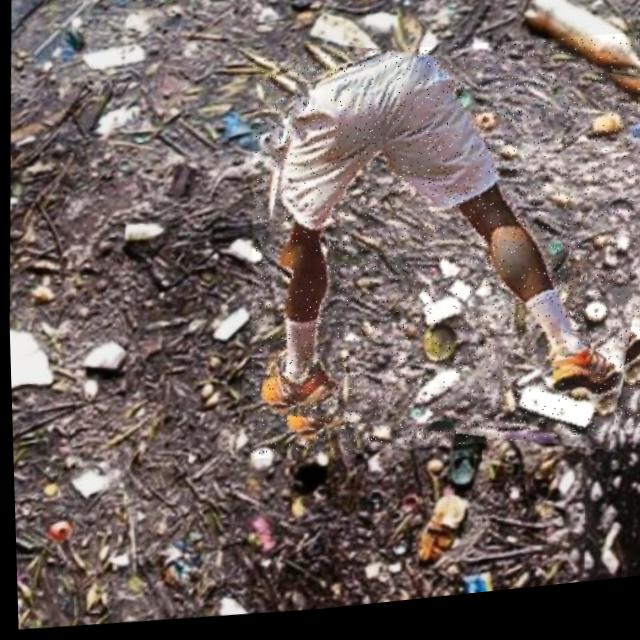Person in Rubble: (238, 32, 640, 478)
